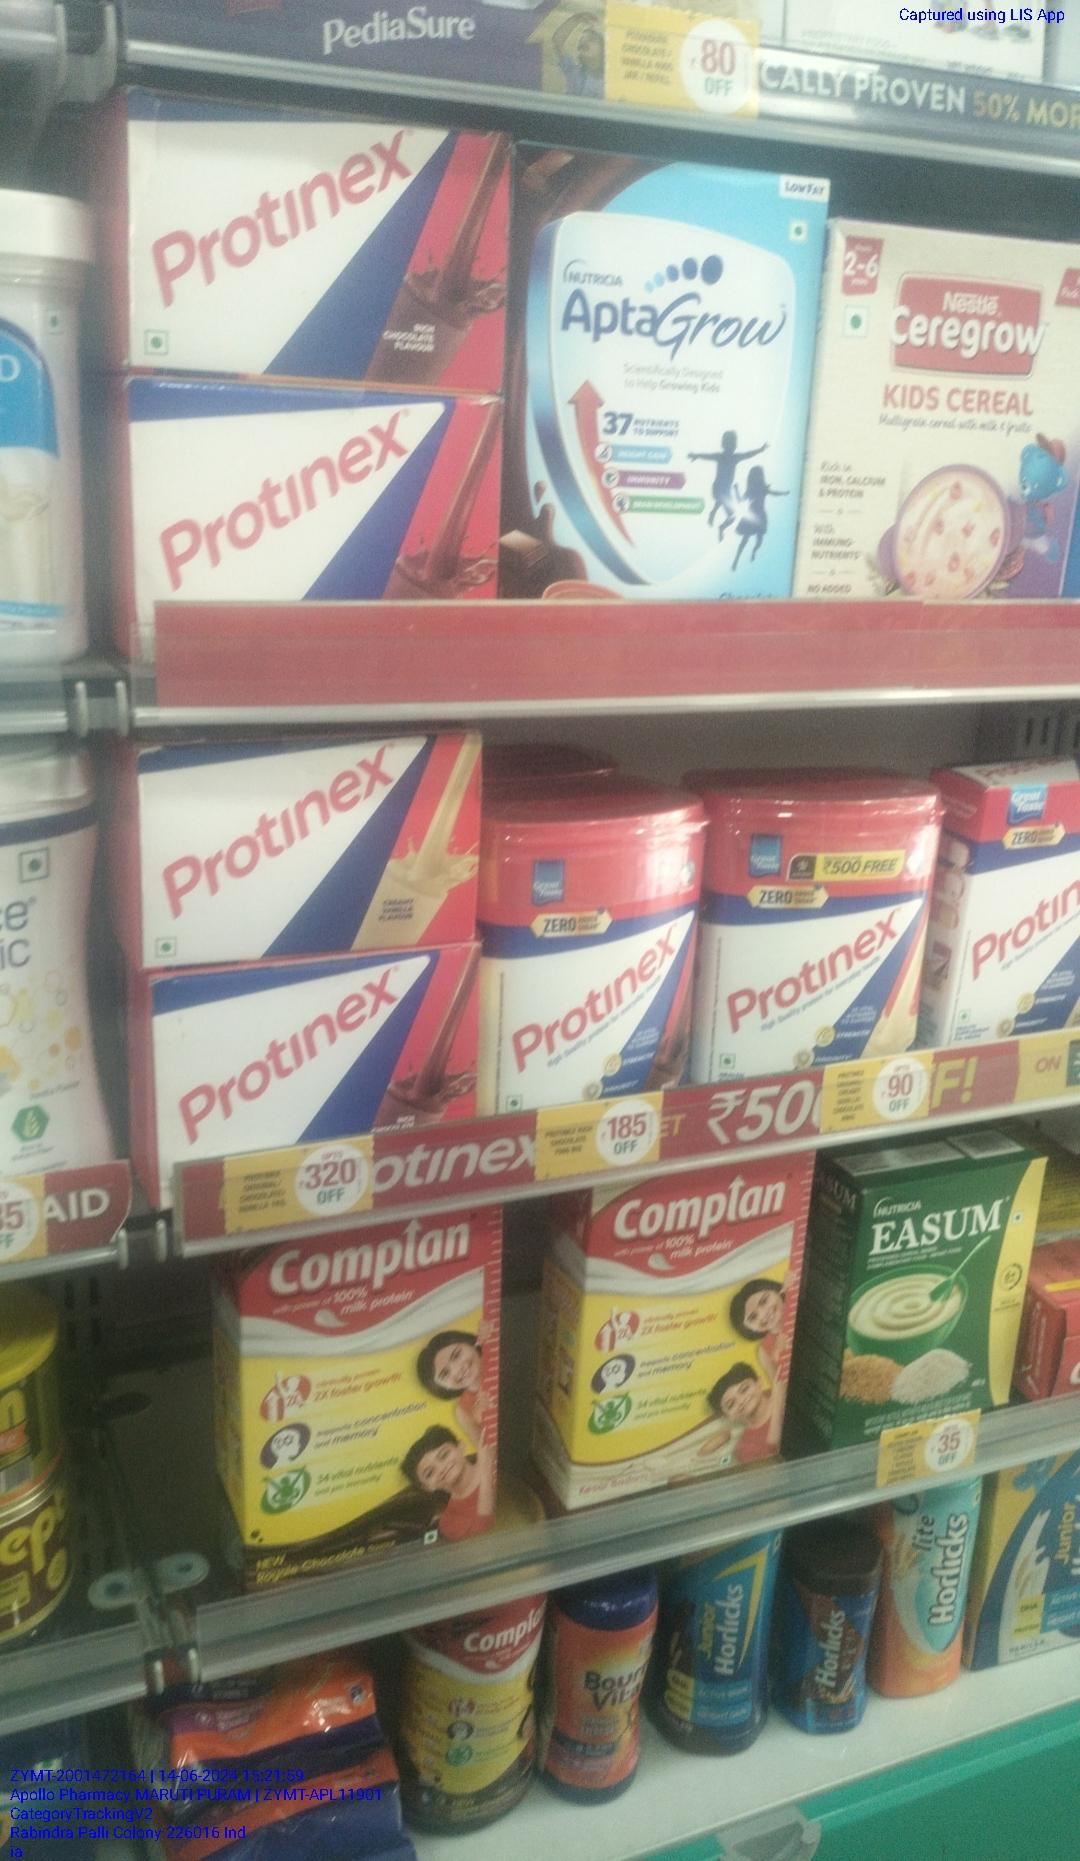BOURN_VITA_500_G_JAR: (545, 1586, 643, 1795)
COMPLAN_CHOCOLATE_500_GMS_JAR: (408, 1610, 536, 1834)
COMPLAN_CHOCOLATE_500_GMS_PACK: (247, 1230, 501, 1542)
COMPLAN_KESAR_BADAM_500_GMS_PACK: (568, 1185, 793, 1506)
HORLICKS_LITE_REGULAR_MALT_500_GM_JAR: (885, 1495, 973, 1702)
HORLICK_CHOCOLATE_200_G_JAR: (789, 1553, 870, 1731)
PROTINEX_CHOCOLATE_400_G_JAR: (487, 794, 698, 1090)
PROTINEX_VANILLA_400_G_JAR: (712, 794, 931, 1050)
